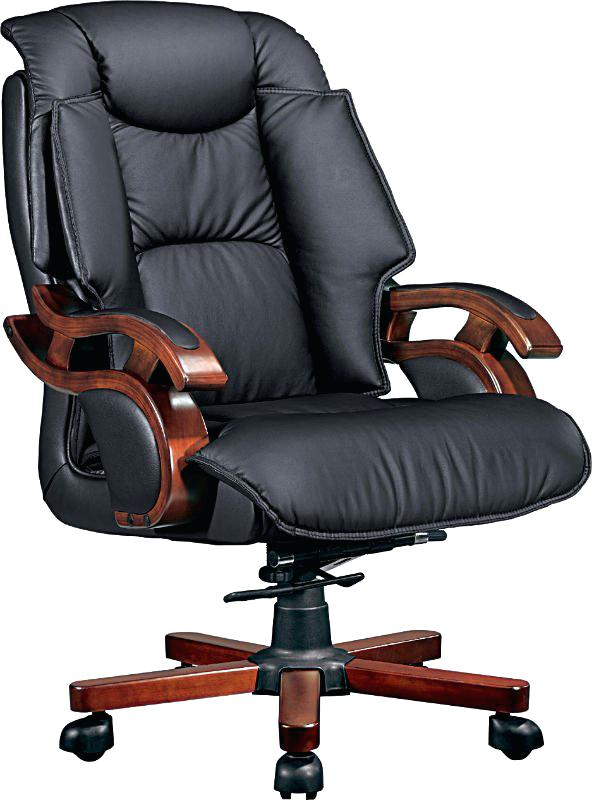chairs: (4, 2, 580, 800)
